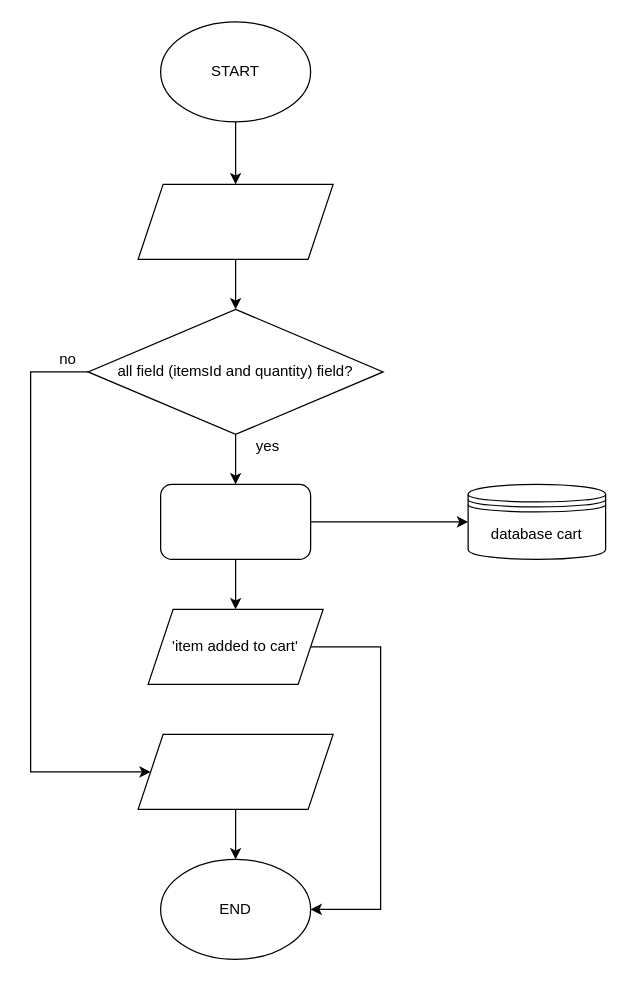
This 628x981 diagram has some shape labels left out. Each missing label, with the centre of its shape:
'all field (itemsId and quantity) must be filled: the point at 235,771
input itemsId, quantity: the point at 235,221
send input to database: the point at 235,521
